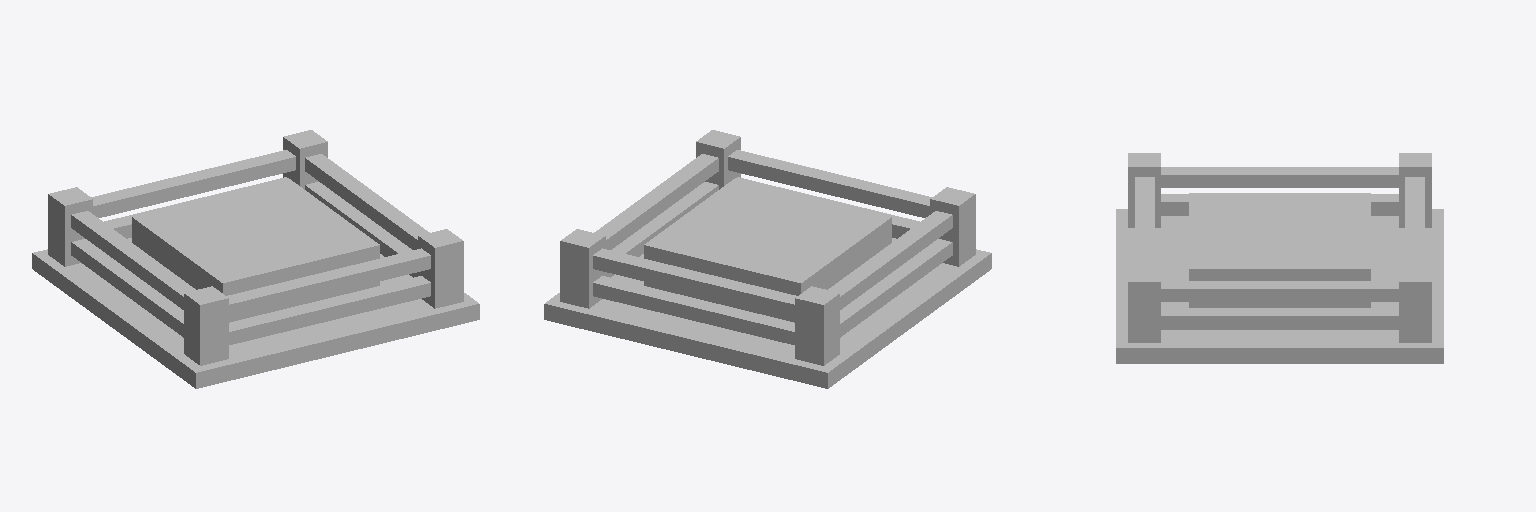
File: tempBarricade.obj
3 renders of one model, left to right at view 1: azimuth 30°, elevation 25°; view 2: azimuth 150°, elevation 25°; view 3: azimuth 270°, elevation 25°, orthographic.
Parts seen in each view (by area): view 1: Base2; view 2: Base2; view 3: Base2.
Boxes of the visible parts, box(x1,y1,x2,y2) form: Base2: box(32, 130, 479, 388); Base2: box(544, 130, 991, 388); Base2: box(1116, 153, 1443, 363).
Size of the model in its own units: 10 by 2.6 by 10.